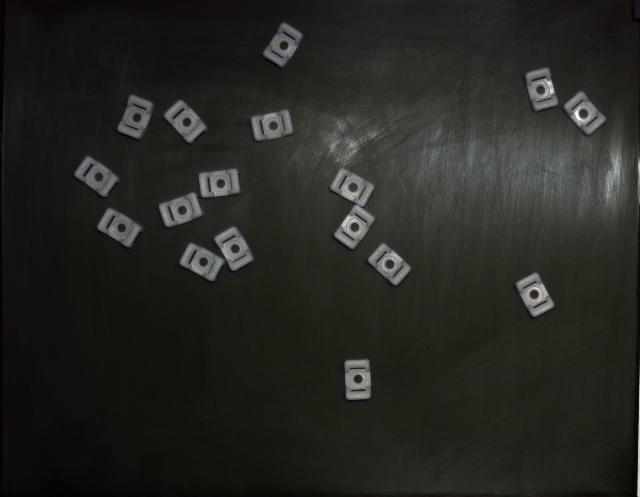first_side: (164, 100, 208, 144), (74, 156, 120, 198), (334, 205, 375, 250), (262, 22, 302, 68), (368, 244, 411, 286), (98, 209, 144, 248), (515, 272, 554, 318), (330, 169, 375, 208), (215, 228, 254, 271), (180, 244, 225, 281), (118, 95, 154, 139), (159, 192, 202, 228), (251, 110, 294, 141), (199, 169, 241, 198), (344, 359, 371, 401)
